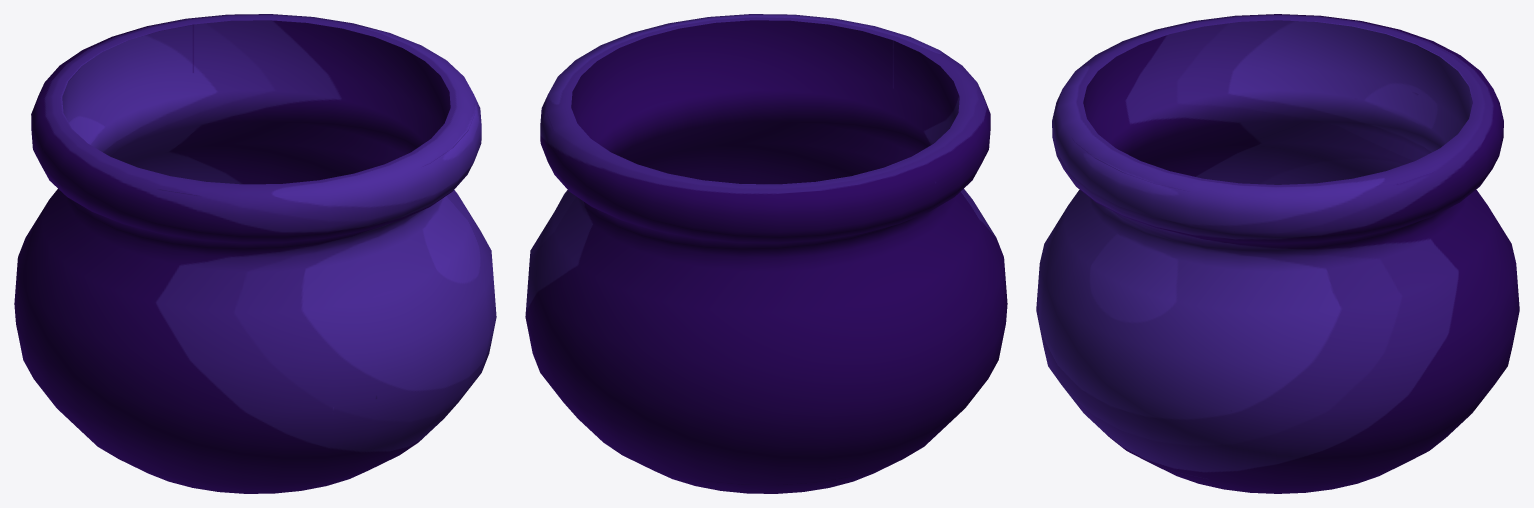
The model's file is kazan.fbx.
The picture shows the model from 3 angles, left to right: view 1: azimuth 30°, elevation 25°; view 2: azimuth 150°, elevation 25°; view 3: azimuth 270°, elevation 25°; orthographic projection.
Visible parts, largest first — view 1: kazan; view 2: kazan; view 3: kazan.
Part boxes in pixels (<box>): kazan: <box>14,14,496,493</box>; kazan: <box>525,14,1007,493</box>; kazan: <box>1036,14,1519,493</box>.
Size of the model in its own units: 133 by 111 by 133.
1 material, 1 textured.
